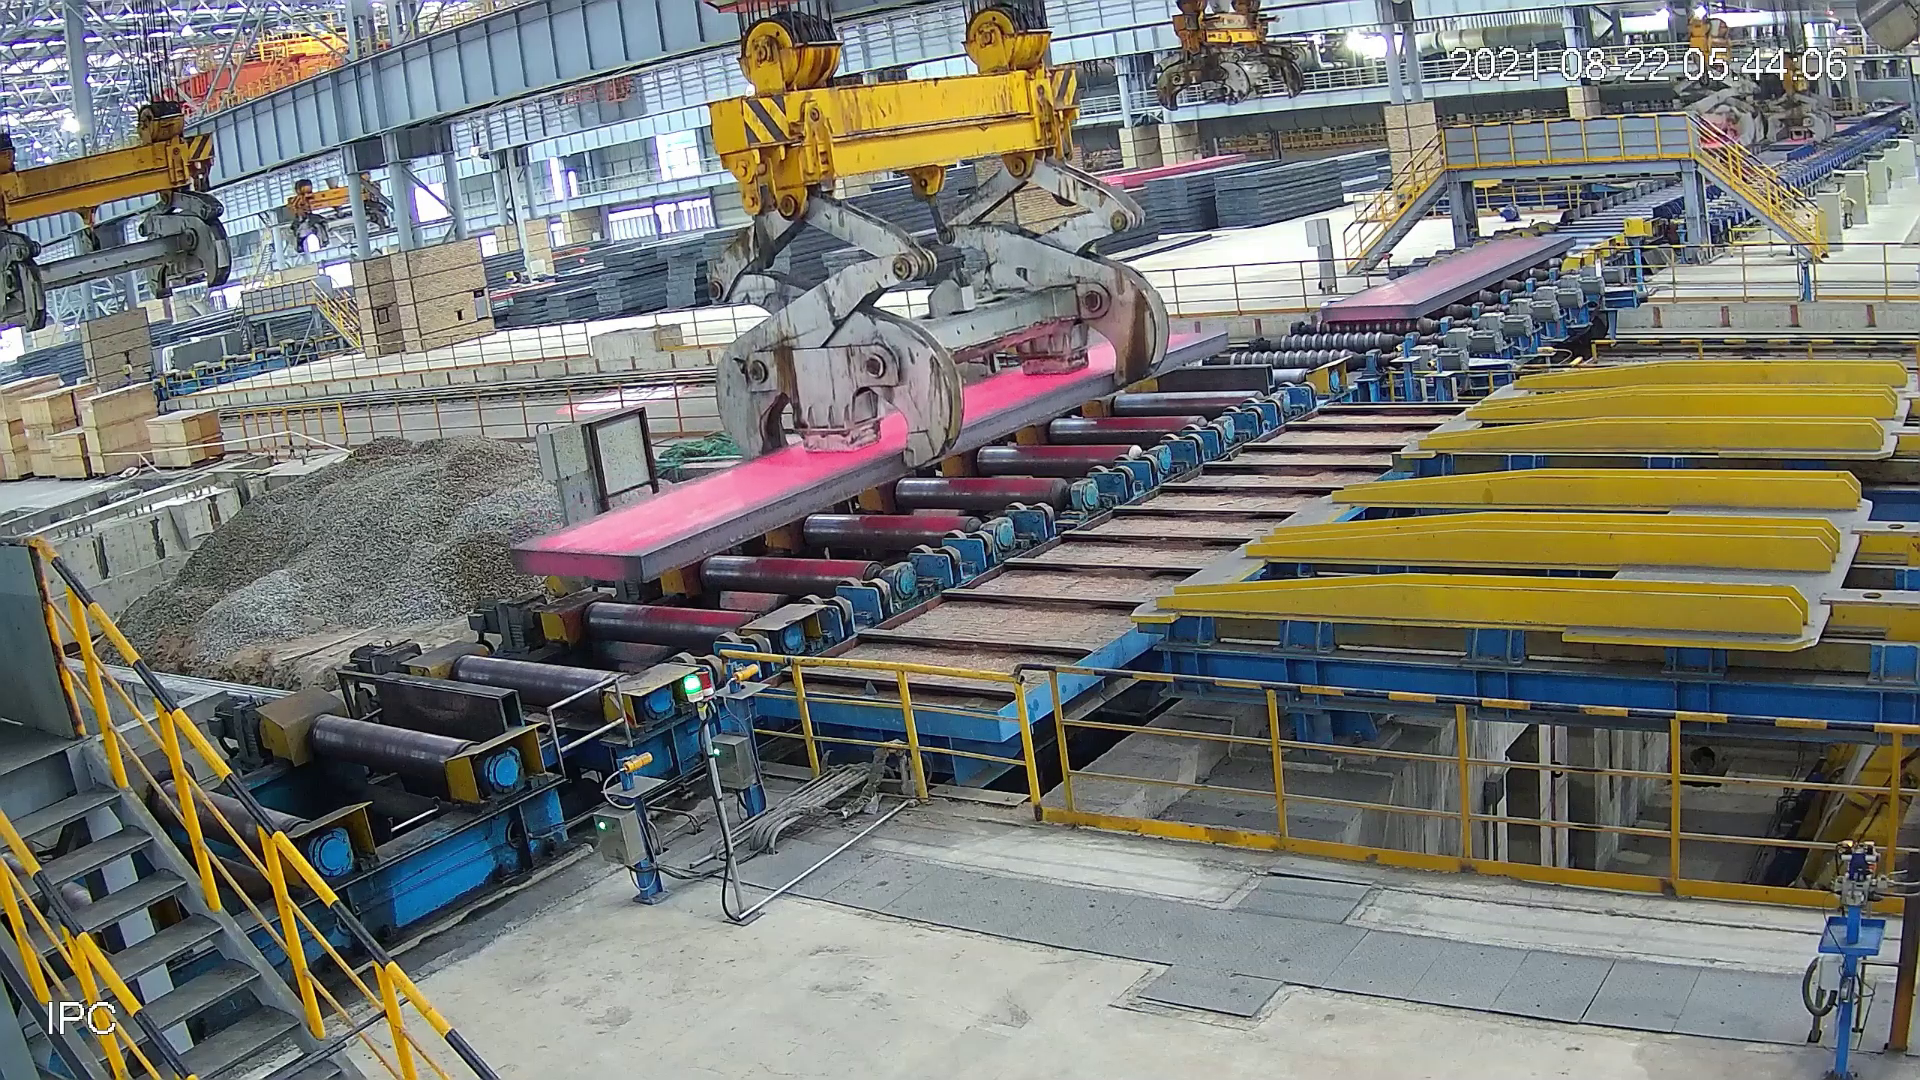crane: (1141, 1, 1317, 124)
craneandslab: (510, 5, 1258, 584)
slab: (1309, 224, 1577, 330)
